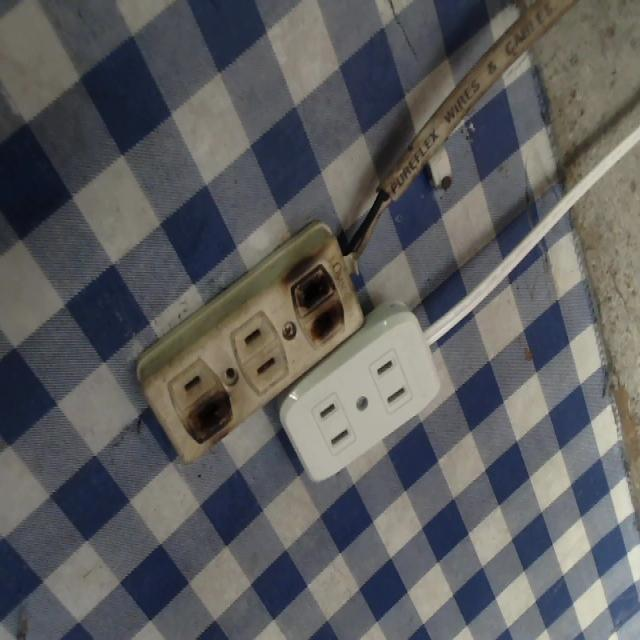-: (287, 259, 357, 345), (180, 385, 242, 451)
